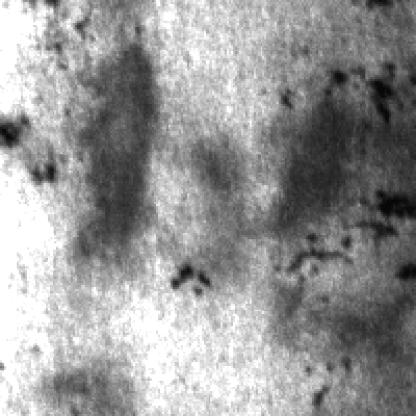inclusion: (308, 67, 406, 131), (333, 185, 414, 256), (0, 109, 60, 194), (162, 264, 214, 306)
patches: (69, 50, 160, 262), (274, 289, 414, 416), (250, 93, 368, 231)
